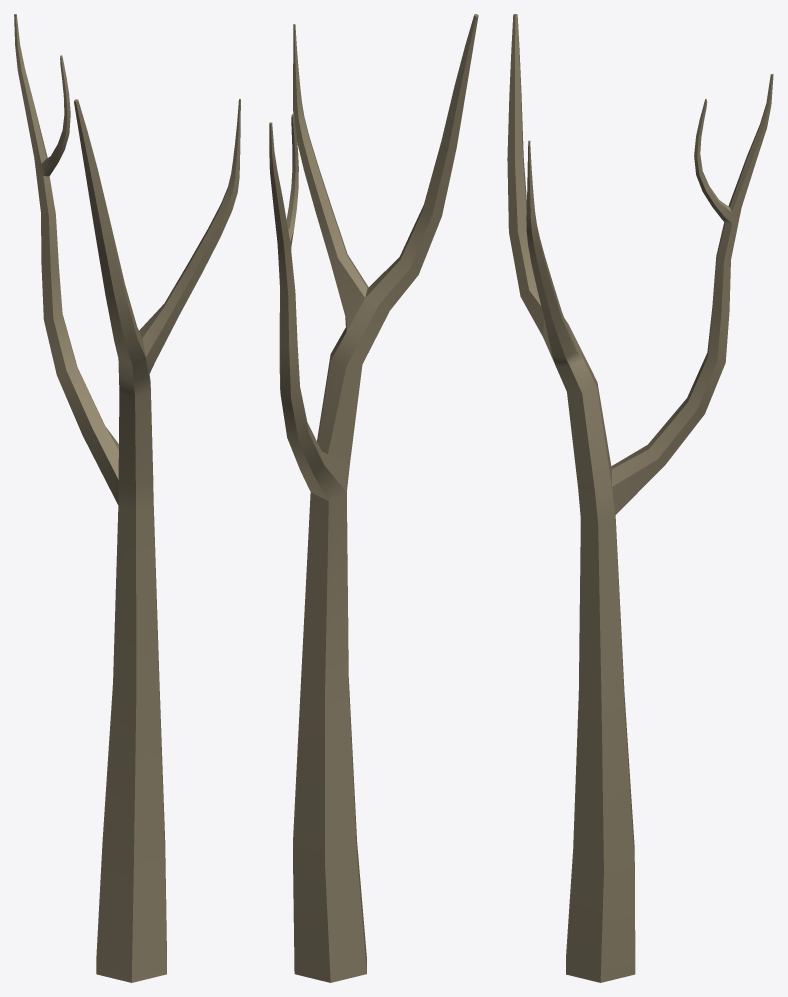
Rendered from dead skinny tree.fbx.
3 views of the same model, side by side, from view 1: azimuth 30°, elevation 25°; view 2: azimuth 150°, elevation 25°; view 3: azimuth 270°, elevation 25° (orthographic). The views are drawn at different scales.
Visible parts, largest first — view 1: polySurface7; view 2: polySurface7; view 3: polySurface7.
Boxes of the visible parts, box(x1,y1,x2,y2) form: polySurface7: box(14, 14, 240, 982); polySurface7: box(269, 14, 478, 982); polySurface7: box(507, 14, 773, 982).
Bounding box in the file's own units: 49.59 × 66.93 × 251.
